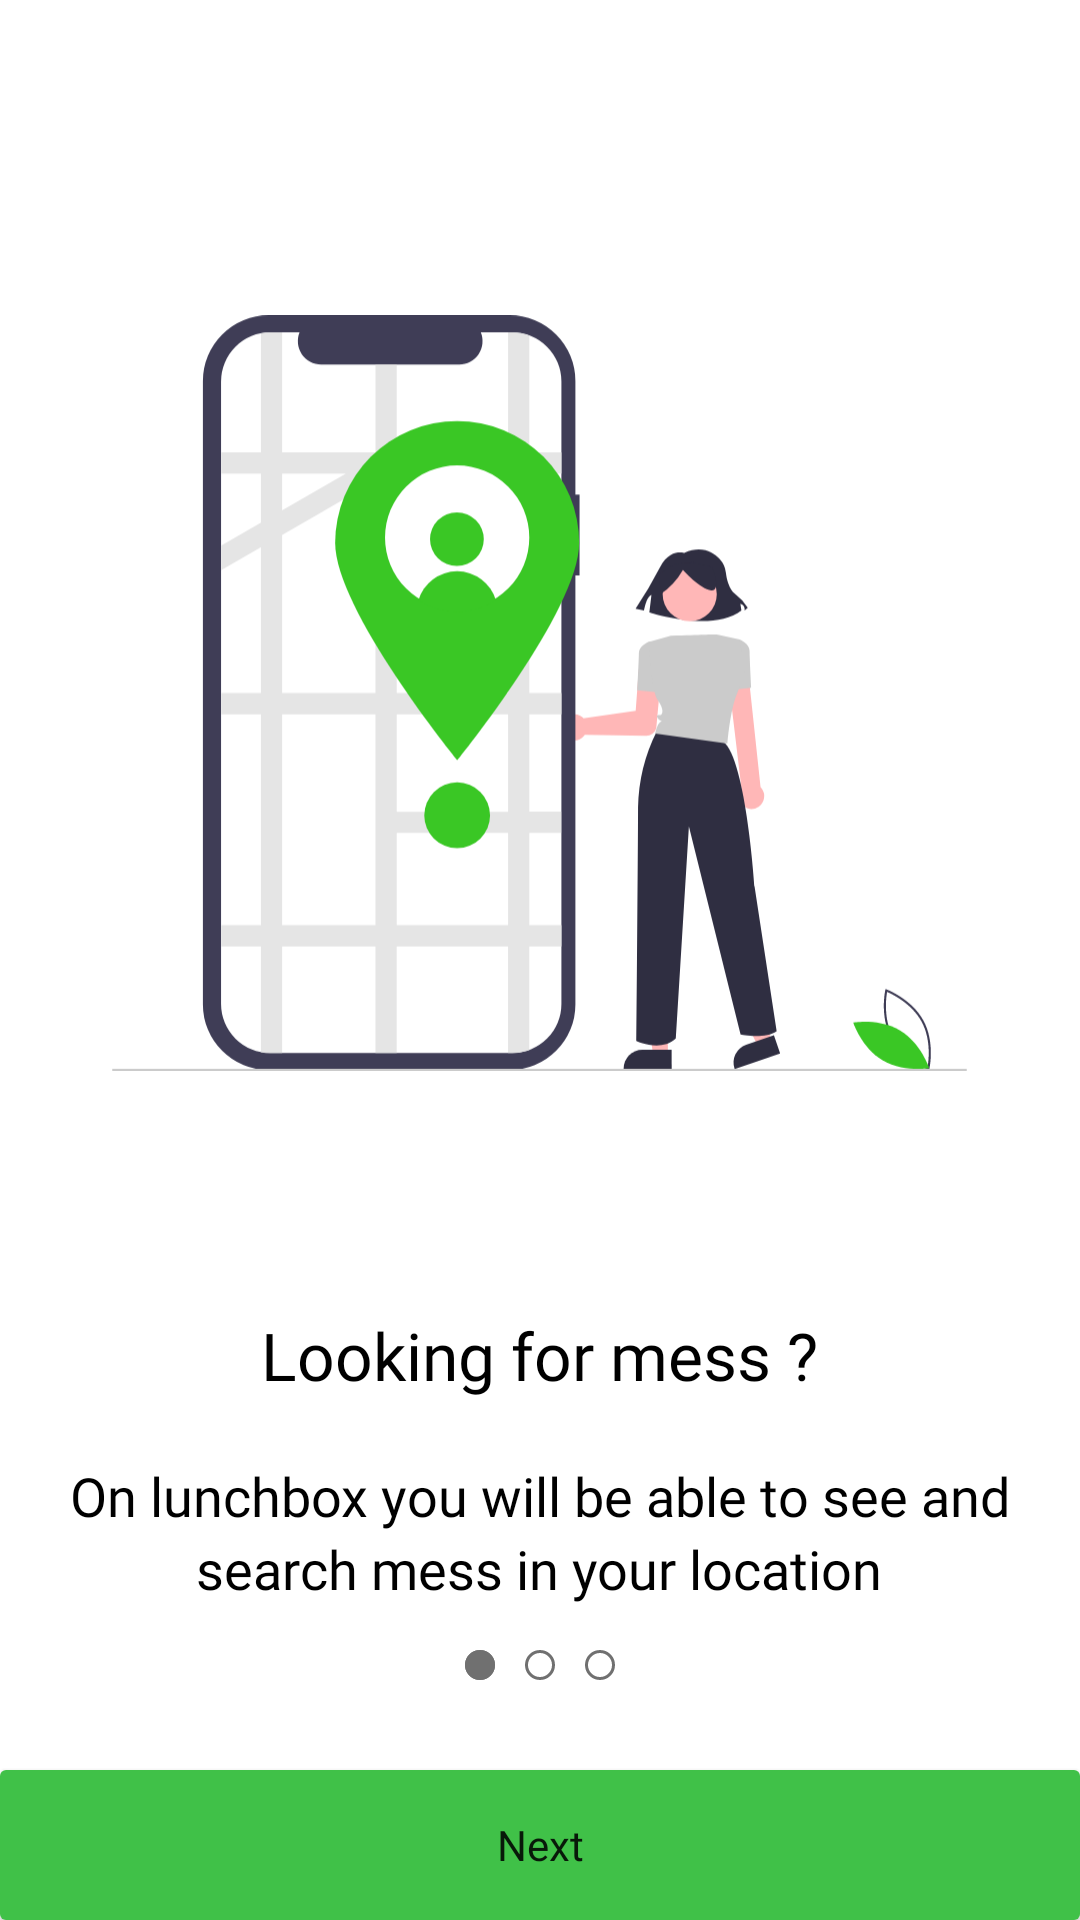

Screen size 1080 x 1920. Icon name, then its box in pixels as (left=x1, top=y1, right=x2, bottom=y2):
onboardingscroll: (left=465, top=1650, right=615, bottom=1680)
